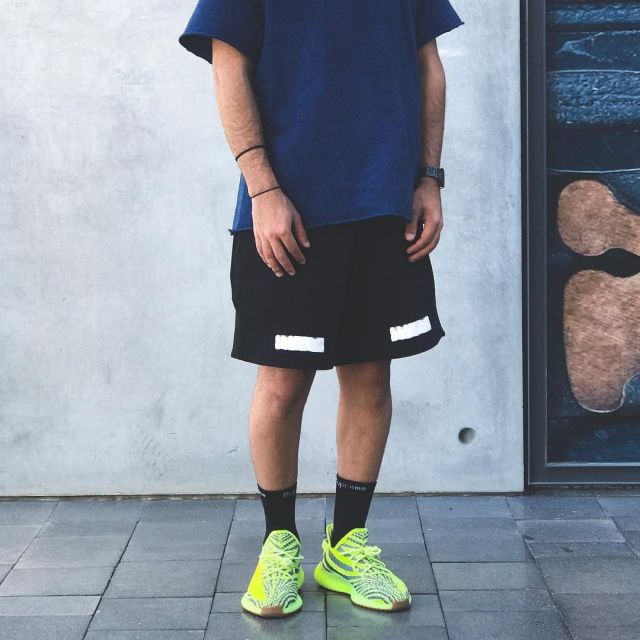Yeezy Semi-Frozen: (309, 514, 418, 621), (240, 512, 313, 628)
